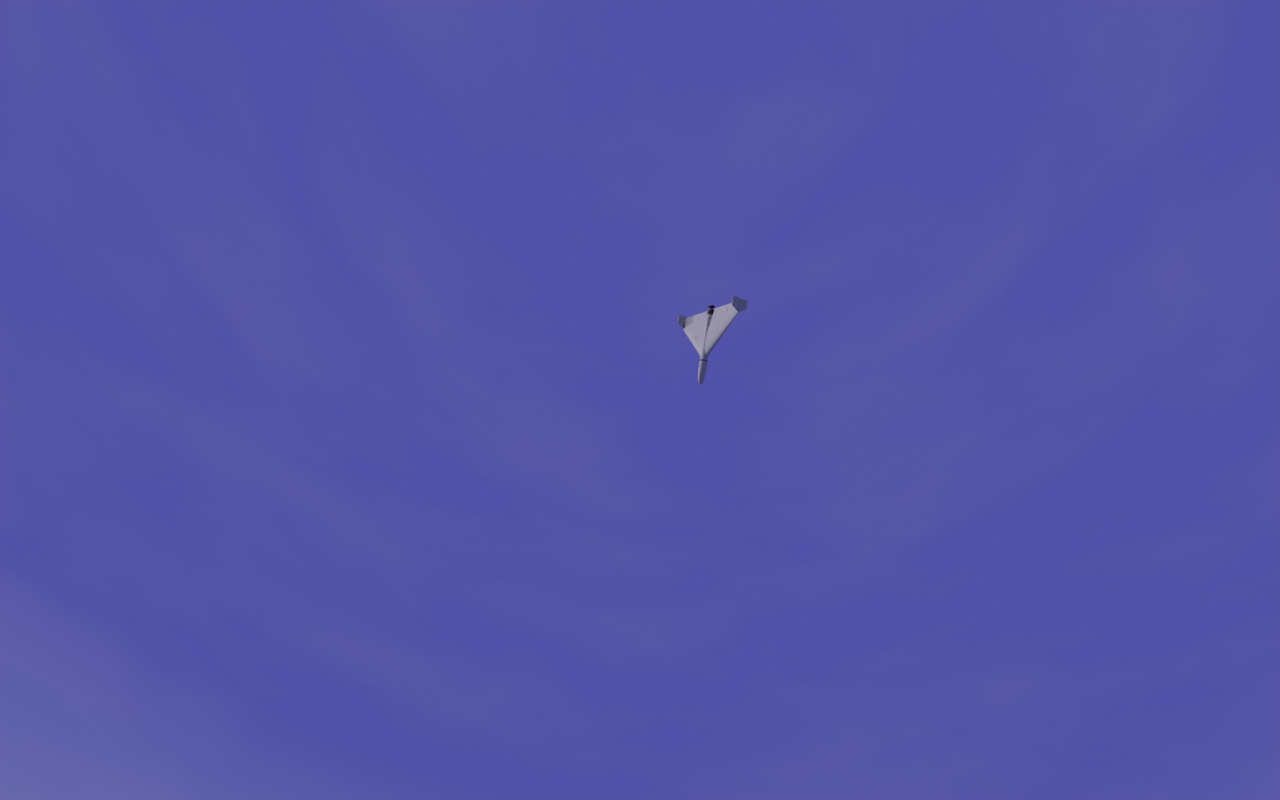shahed: (678, 295, 750, 387)
